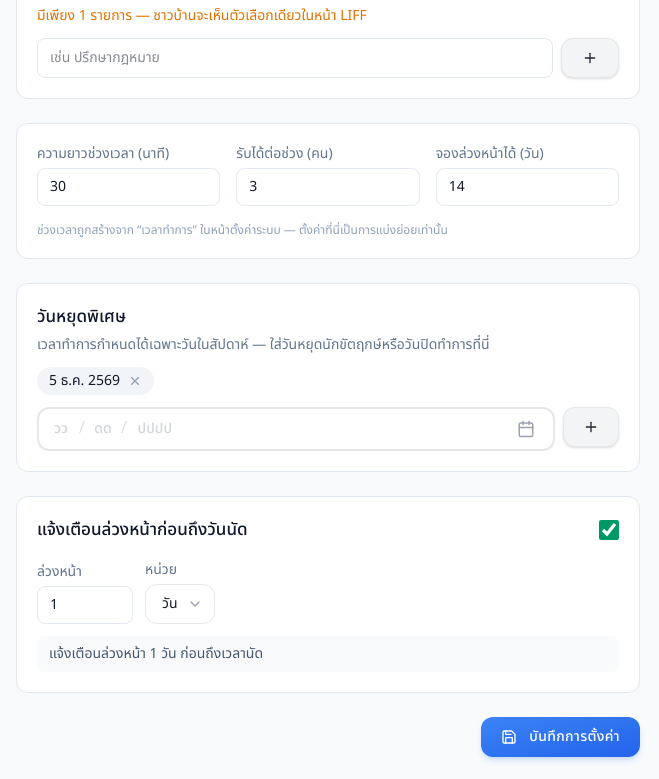
Test: the reminder setting › hides the lead-time inputs when reminders are switched off
The width and height of the screenshot is (659, 779).
(page scrolled)
Check: the number field labelled "ล่วงหน้า" is shown, box [37, 586, 133, 624]
Click the checkbox labelled "แจ้งเตือนล่วงหน้าก่อนถึงวันนัด" at (609,530), box [599, 520, 619, 540]
(page scrolled)
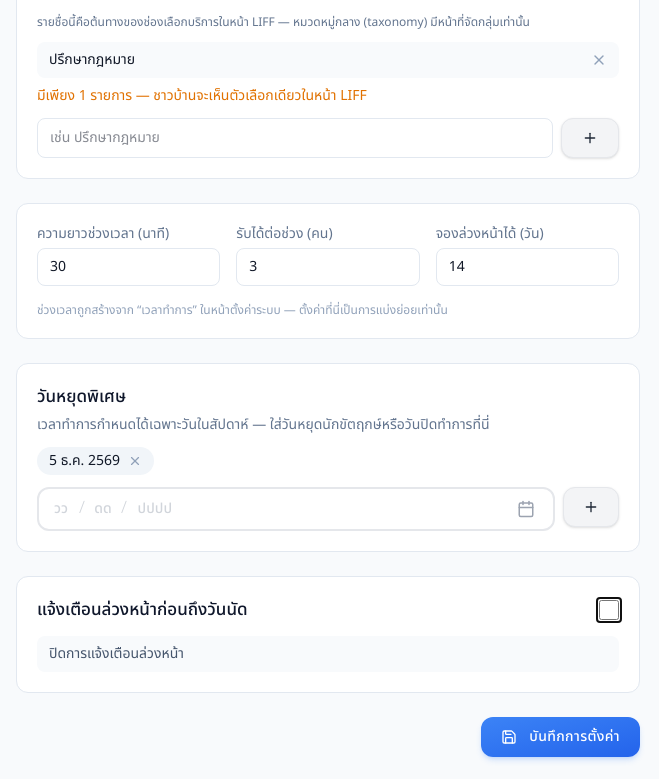
Check: the text "ปิดการแจ้งเตือนล่วงหน้า" is shown, box [37, 636, 619, 672]
